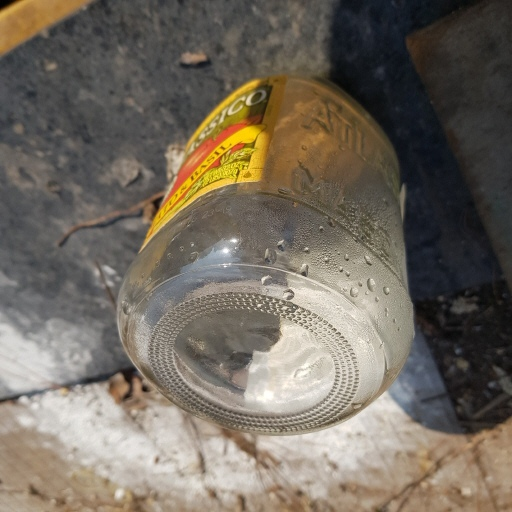Glass_5: (113, 72, 420, 433)
